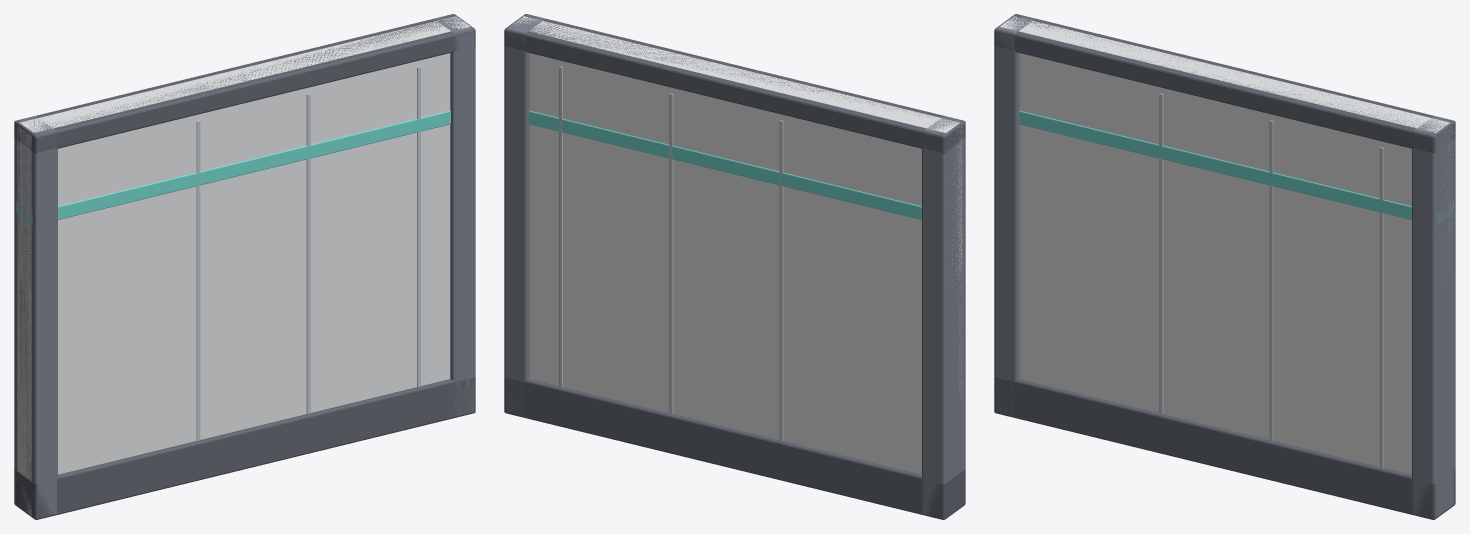
The model's file is prop_wall.glb.
The picture shows the model from 3 angles, left to right: view 1: azimuth 30°, elevation 25°; view 2: azimuth 150°, elevation 25°; view 3: azimuth 330°, elevation 25°; orthographic projection.
Visible parts, largest first — view 1: prop_wall_v2; view 2: prop_wall_v2; view 3: prop_wall_v2.
Part boxes in pixels (left/top/right/bottom): prop_wall_v2: left=14, top=14, right=475, bottom=519; prop_wall_v2: left=504, top=14, right=965, bottom=519; prop_wall_v2: left=994, top=14, right=1455, bottom=519.
Size of the model in its own units: 3 by 2.5 by 0.26.
